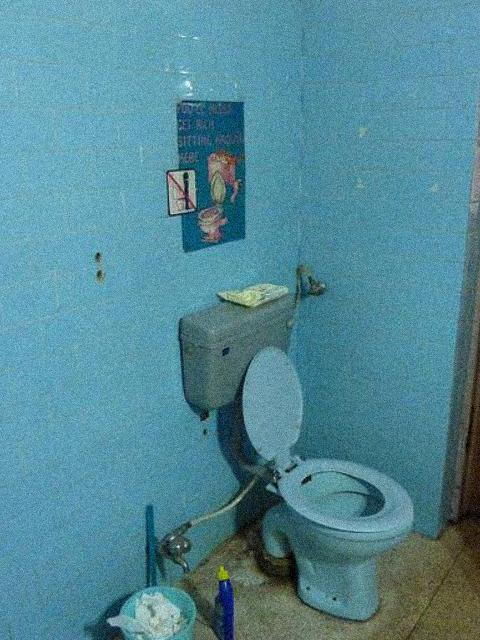Bote de Basura: (107, 562, 208, 640)
Sanitario: (182, 285, 429, 628)
